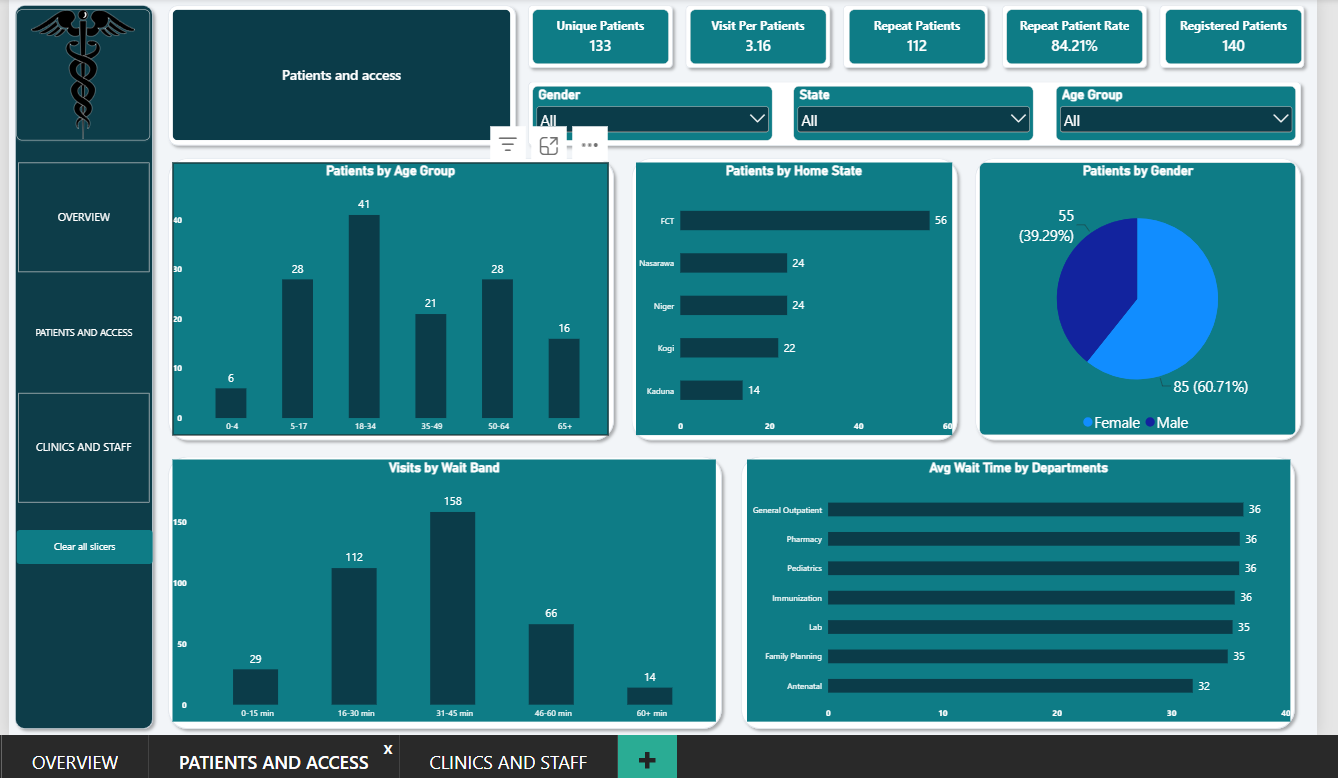

What the dashboard file says about the page in this screenshot:
{"tool":"powerbi","page":{"name":"PATIENTS AND ACCESS","canvas":[1920,1080],"ordinal":1},"visuals":[{"type":"shape","box":[0,0,220,1080],"z":0},{"type":"shape","box":[752,112,1152,112],"z":1000},{"type":"shape","box":[1216,0,230,110],"z":2000},{"type":"shape","box":[1680,0,230,110],"z":3000},{"type":"shape","box":[984,0,230,110],"z":4000},{"type":"shape","box":[224,0,528,224],"z":5000},{"type":"shape","box":[1448,0,230,110],"z":6000},{"type":"shape","box":[752,0,230,110],"z":7000},{"type":"shape","box":[224,224,672,432],"z":8000},{"type":"shape","box":[904,224,496,432],"z":9000},{"type":"shape","box":[1408,224,496,432],"z":10000},{"type":"shape","box":[223.9,662.3,830.2,417.4],"z":11000},{"type":"cardVisual","fields":{"Data":["All  Measures.Patients Title"]},"box":[240,16,496,192],"z":12000},{"type":"cardVisual","fields":{"Data":["All  Measures.Unique Patients"]},"box":[768,16,200,80],"z":13000},{"type":"cardVisual","fields":{"Data":["All  Measures.Visit Per Patients"]},"box":[1000,16,200,80],"z":14000},{"type":"cardVisual","fields":{"Data":["All  Measures.Repeat Patients"]},"box":[1232,16,200,80],"z":15000},{"type":"cardVisual","fields":{"Data":["All  Measures.Repeat Patient Rate"]},"box":[1464,16,200,80],"z":16000},{"type":"cardVisual","fields":{"Data":["All  Measures.Registered Patients"]},"box":[1696,16,200,80],"z":17000},{"type":"slicer","fields":{"Values":["patients.State"]},"box":[1152,128,352,80],"z":18000},{"type":"slicer","fields":{"Values":["patients.Age Group"]},"box":[1536,128,352,80],"z":19000},{"type":"slicer","fields":{"Values":["patients.Gender"]},"box":[768,128,352,80],"z":20000},{"type":"clusteredColumnChart","title":"Patients by Age Group","fields":{"Y":["All  Measures.Registered Patients"],"Category":["patients.Age Group"]},"box":[240,240,640,400],"z":21000},{"type":"clusteredBarChart","title":"Patients by Home State","fields":{"Y":["All  Measures.Registered Patients"],"Category":["patients.State"]},"box":[920,240,464,400],"z":22000},{"type":"pieChart","title":"Patients by Gender","fields":{"Category":["patients.Gender"],"Y":["All  Measures.Registered Patients"]},"box":[1424,240,464,400],"z":23000},{"type":"clusteredColumnChart","title":"Visits by Wait Band","fields":{"Category":["visits.Wait Band"],"Y":["All  Measures.Total Visits"]},"box":[240.2,676.3,797.5,384.8],"z":24000},{"type":"shape","box":[1065.7,662.3,830.2,417.4],"z":25000},{"type":"clusteredBarChart","title":"Avg Wait Time by Departments","fields":{"Y":["All  Measures.Avg Wait(Min)"],"Category":["visits.Department"]},"box":[1082,676.3,797.5,384.8],"z":26000},{"type":"image","box":[11.5,15.4,196.2,192.3],"z":27000},{"type":"actionButton","box":[11,779.2,200,50],"z":28000},{"type":"pageNavigator","box":[13.2,239.9,193.7,501.9],"z":29000}]}

Visuals, with their boxes on the page's 1920x1080 design canvas (x1, y1, x2, y2). These are canvas units, not pixel positions in the 1338x778 screenshot, which may show the page scaled, cropped or inside an application window:
shape: bbox(0, 0, 220, 1080)
shape: bbox(752, 112, 1904, 224)
shape: bbox(1216, 0, 1446, 110)
shape: bbox(1680, 0, 1910, 110)
shape: bbox(984, 0, 1214, 110)
shape: bbox(224, 0, 752, 224)
shape: bbox(1448, 0, 1678, 110)
shape: bbox(752, 0, 982, 110)
shape: bbox(224, 224, 896, 656)
shape: bbox(904, 224, 1400, 656)
shape: bbox(1408, 224, 1904, 656)
shape: bbox(224, 662, 1054, 1080)
cardVisual - All  Measures.Patients Title: bbox(240, 16, 736, 208)
cardVisual - All  Measures.Unique Patients: bbox(768, 16, 968, 96)
cardVisual - All  Measures.Visit Per Patients: bbox(1000, 16, 1200, 96)
cardVisual - All  Measures.Repeat Patients: bbox(1232, 16, 1432, 96)
cardVisual - All  Measures.Repeat Patient Rate: bbox(1464, 16, 1664, 96)
cardVisual - All  Measures.Registered Patients: bbox(1696, 16, 1896, 96)
slicer - patients.State: bbox(1152, 128, 1504, 208)
slicer - patients.Age Group: bbox(1536, 128, 1888, 208)
slicer - patients.Gender: bbox(768, 128, 1120, 208)
"Patients by Age Group" clusteredColumnChart: bbox(240, 240, 880, 640)
"Patients by Home State" clusteredBarChart: bbox(920, 240, 1384, 640)
"Patients by Gender" pieChart: bbox(1424, 240, 1888, 640)
"Visits by Wait Band" clusteredColumnChart: bbox(240, 676, 1038, 1061)
shape: bbox(1066, 662, 1896, 1080)
"Avg Wait Time by Departments" clusteredBarChart: bbox(1082, 676, 1880, 1061)
image: bbox(12, 15, 208, 208)
actionButton: bbox(11, 779, 211, 829)
pageNavigator: bbox(13, 240, 207, 742)
